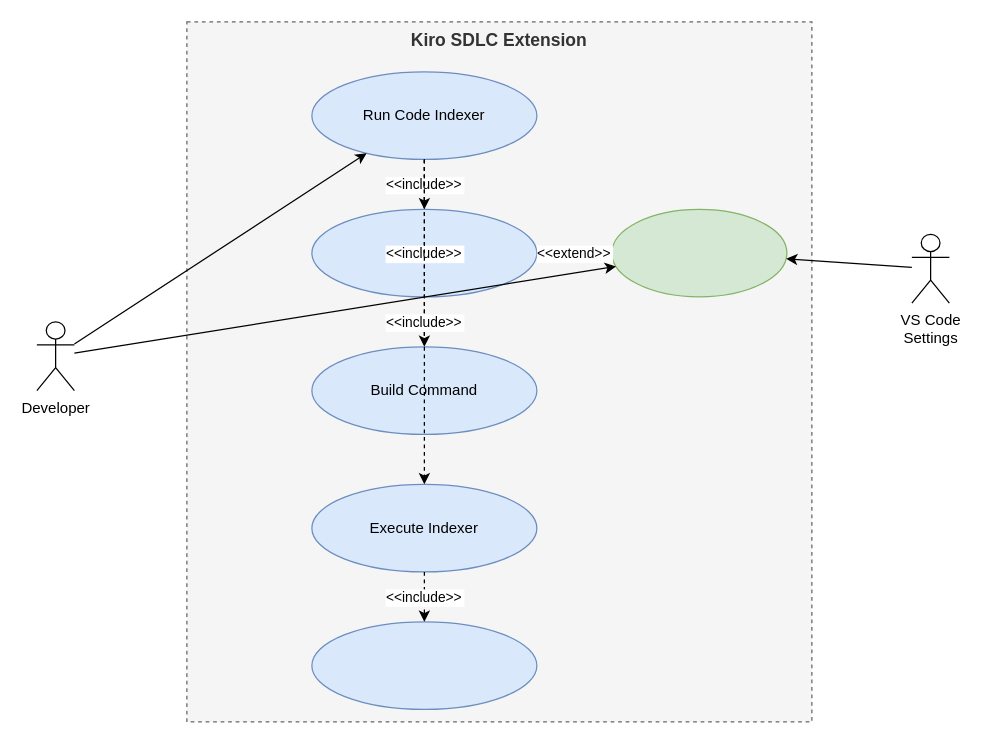
Some shapes in this 983 by 744 pixel diagram are drawn without their labels. The centre of each missing label's shape, as x and y in pixels:
Auto-detect Runtime: (424,252)
Configure preferredIndexer: (699,252)
Stream Output to Channel: (424,665)
